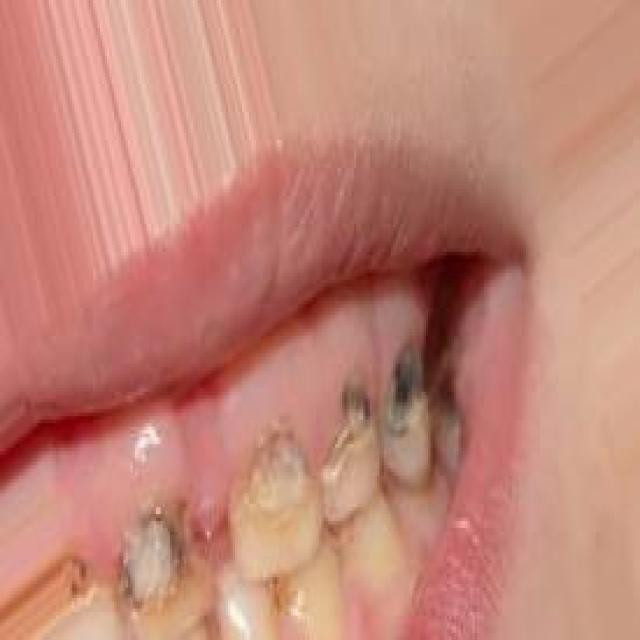caries: (104, 507, 209, 629), (236, 426, 309, 571), (385, 325, 435, 468), (324, 375, 374, 509)
